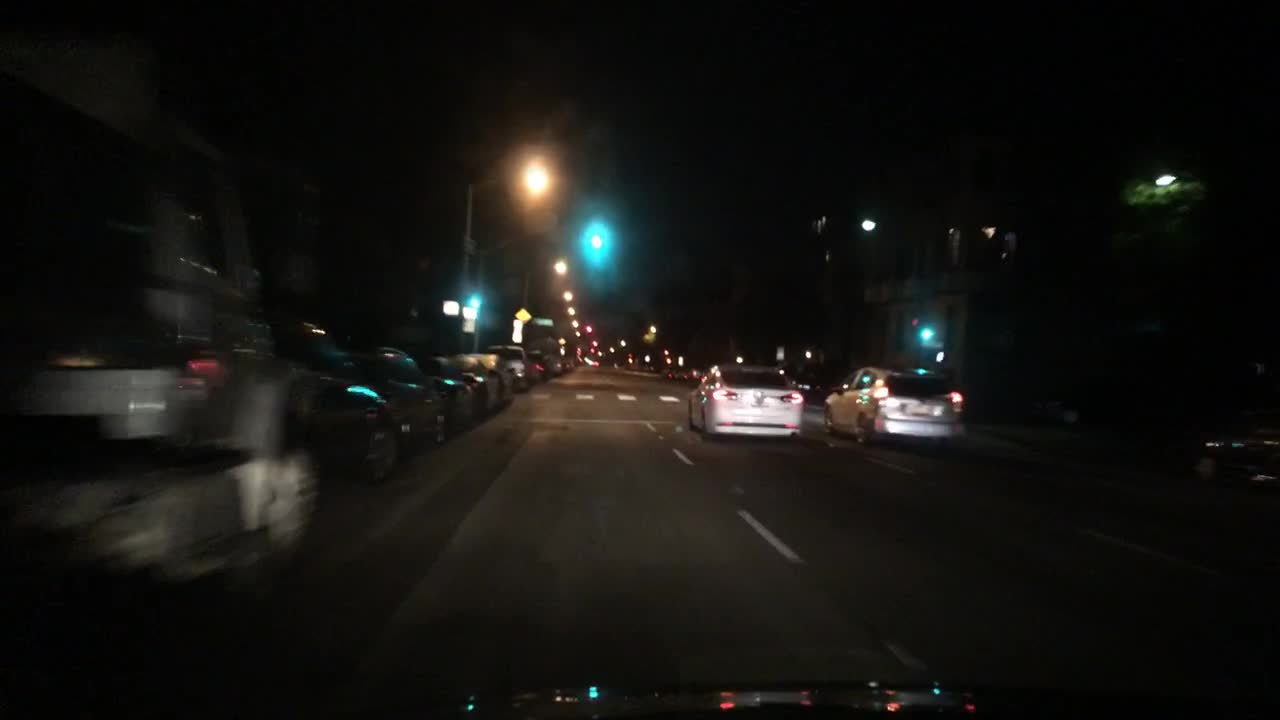car: (298, 342, 458, 492), (821, 363, 973, 452), (684, 353, 808, 444), (1189, 421, 1277, 494), (420, 351, 492, 430), (453, 349, 517, 415), (485, 341, 535, 396), (774, 364, 811, 410), (526, 346, 554, 386), (684, 364, 704, 390), (670, 365, 690, 383), (549, 357, 564, 374), (661, 365, 678, 380), (562, 358, 576, 373), (588, 359, 601, 368)
traffic light: (586, 226, 605, 256), (920, 323, 933, 346), (467, 294, 479, 309), (585, 324, 593, 337), (590, 339, 600, 348), (663, 347, 670, 357)
traffic sign: (441, 298, 461, 318), (513, 306, 532, 325), (533, 314, 555, 329), (511, 318, 523, 343), (460, 318, 477, 335), (461, 306, 478, 320), (774, 342, 785, 362)
truck: (1, 53, 330, 640)
